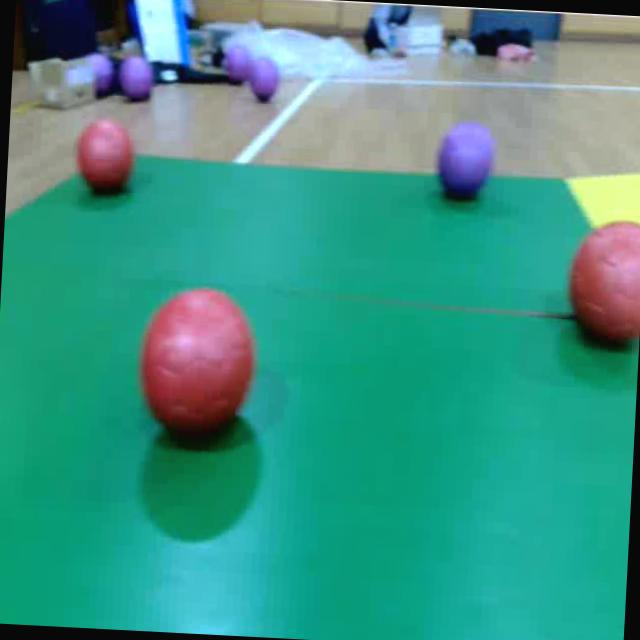purple_ball: (440, 125, 490, 198), (120, 55, 156, 105), (250, 57, 281, 101)
red_ball: (138, 286, 258, 436), (567, 216, 640, 348), (75, 118, 134, 198)
